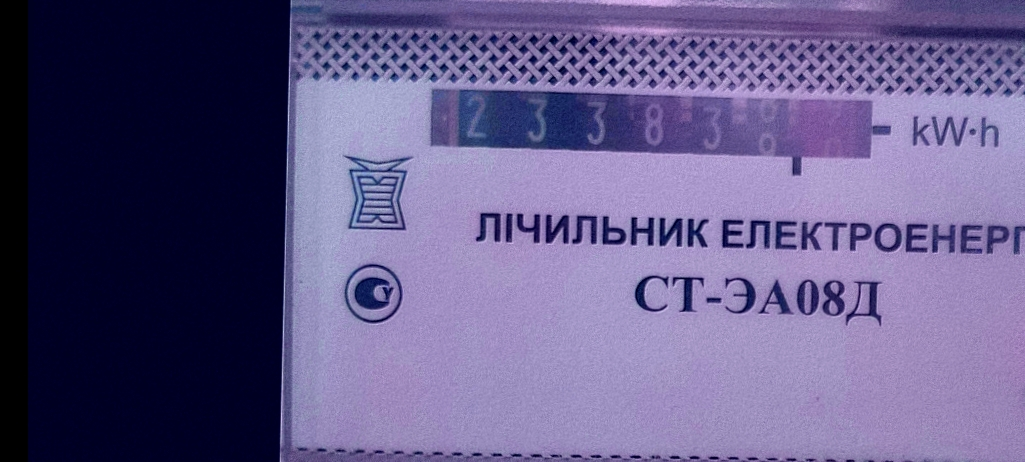0: (822, 133, 848, 158)
2: (463, 91, 492, 140)
3: (524, 94, 552, 145), (585, 97, 611, 148), (700, 102, 727, 151)
8: (642, 100, 668, 146), (756, 97, 784, 124)
9: (755, 128, 782, 157), (823, 98, 848, 127)
screen: (418, 76, 892, 179)
